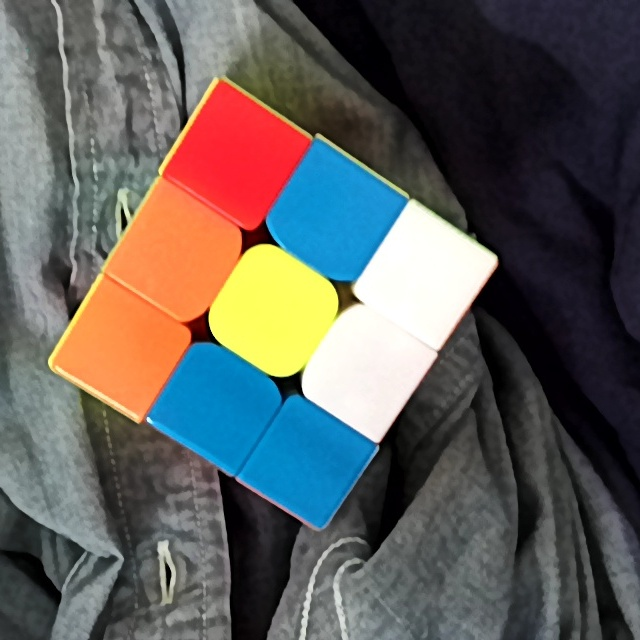tile: (197, 113, 278, 194), (138, 216, 219, 293), (293, 176, 374, 251), (387, 235, 461, 315), (237, 274, 310, 351), (85, 313, 158, 389), (330, 327, 398, 405), (184, 369, 253, 443), (272, 428, 342, 500)
